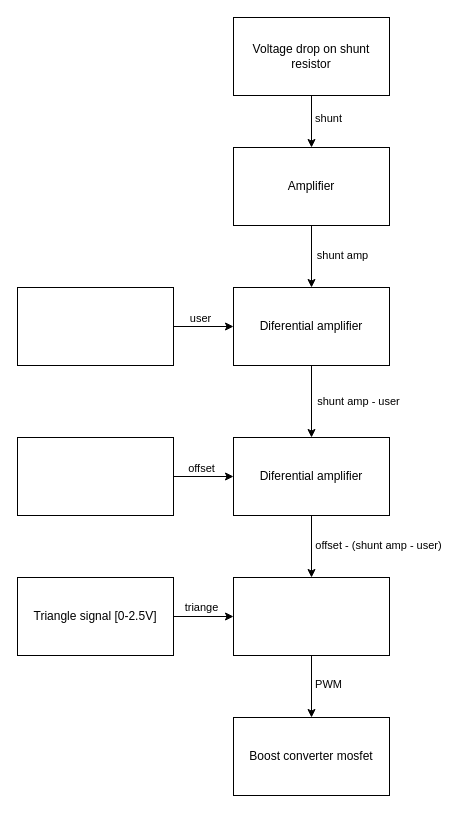
Image size: 458x813. Some labels were removed from this diagram. The box of each missing label's shape, as (x1, y1, x2, y2) in pixels:
2.495V offset: (16, 436, 174, 516)
Comparator: (232, 576, 390, 656)
User input: (16, 286, 174, 366)
